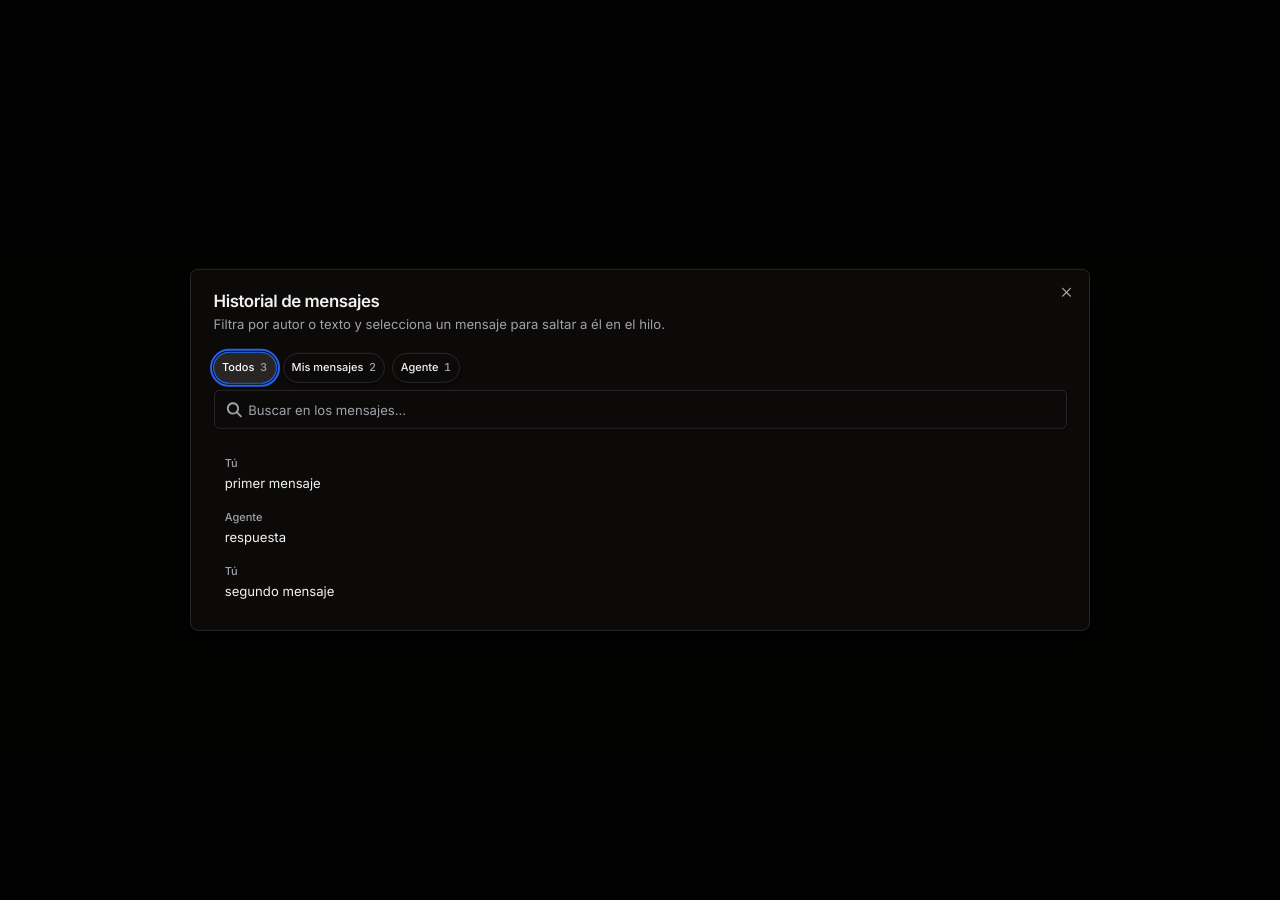
Scenario: ChatHistoryDialog — filtro por texto (U3) › permite limpiar la búsqueda con el botón de limpieza
Type "respuesta" into the search field labelled "Buscar en los mensajes" at (640, 409), box [214, 390, 1066, 429]
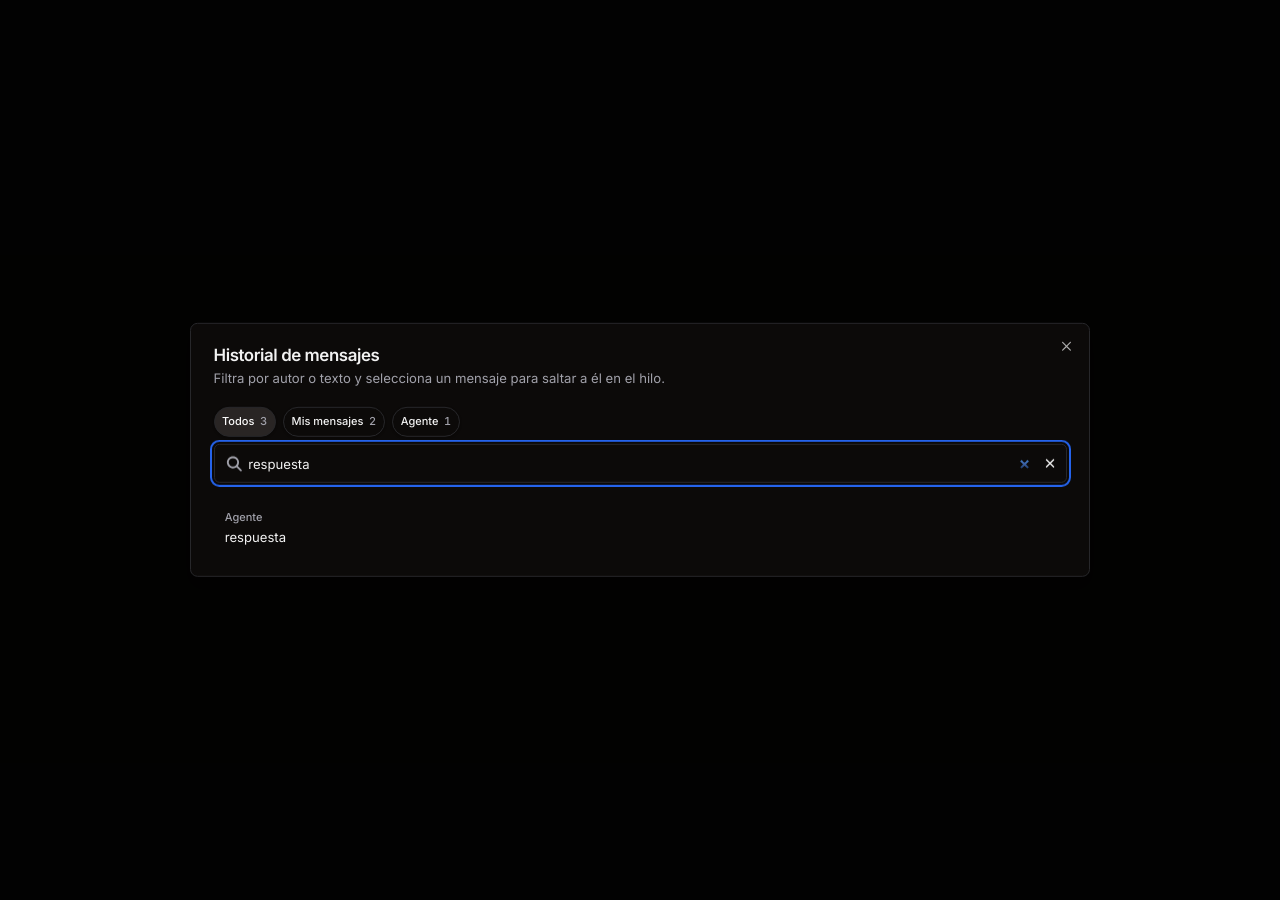
Click the button named "Limpiar búsqueda" at (1050, 463), box [1036, 450, 1063, 476]
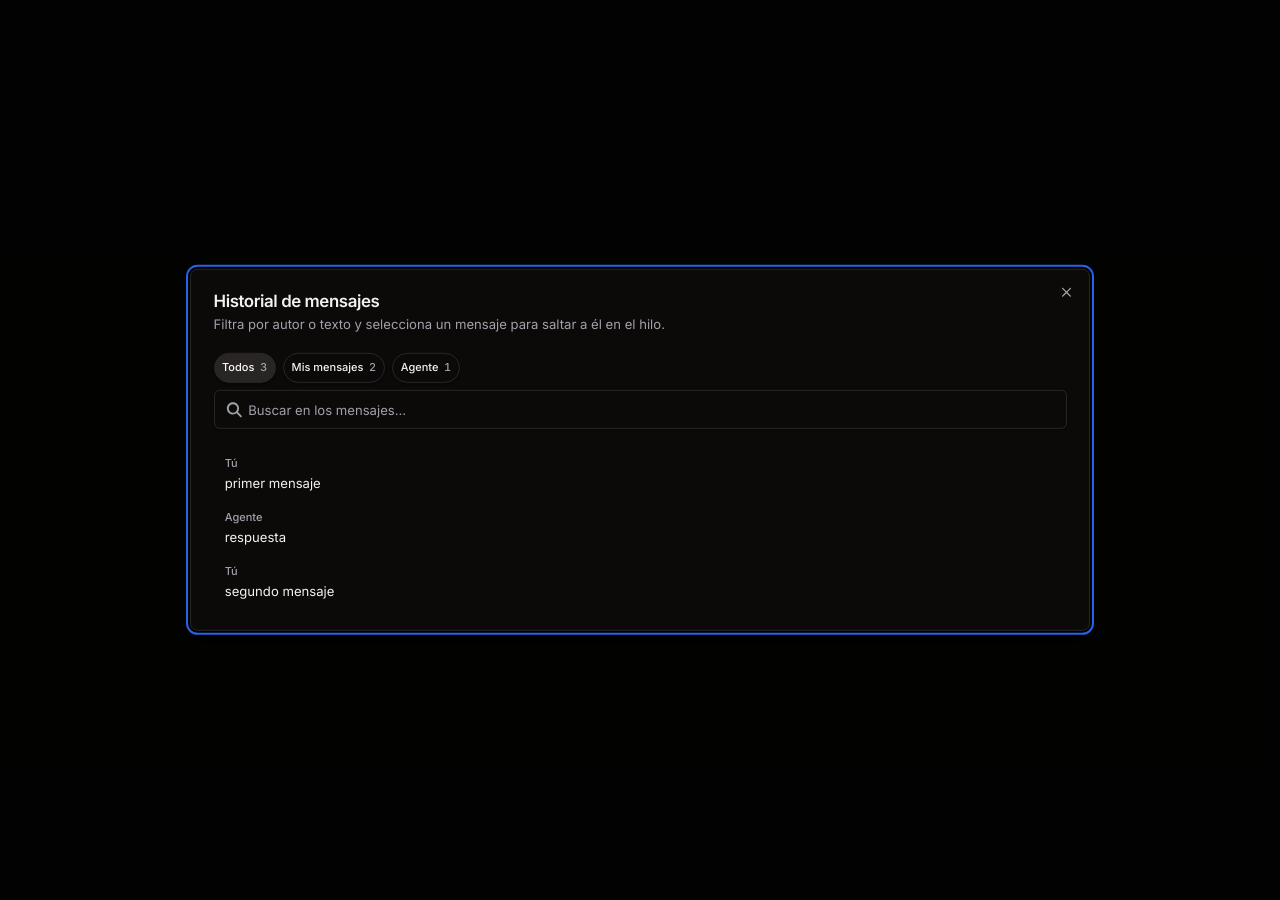
Expected: the search field labelled "Buscar en los mensajes" is empty, [214, 390, 1066, 429]
Expected: the number of buttons with test id "chat-history-item" is 3, [214, 448, 1063, 500]; [214, 502, 1063, 554]; [214, 556, 1063, 608]
